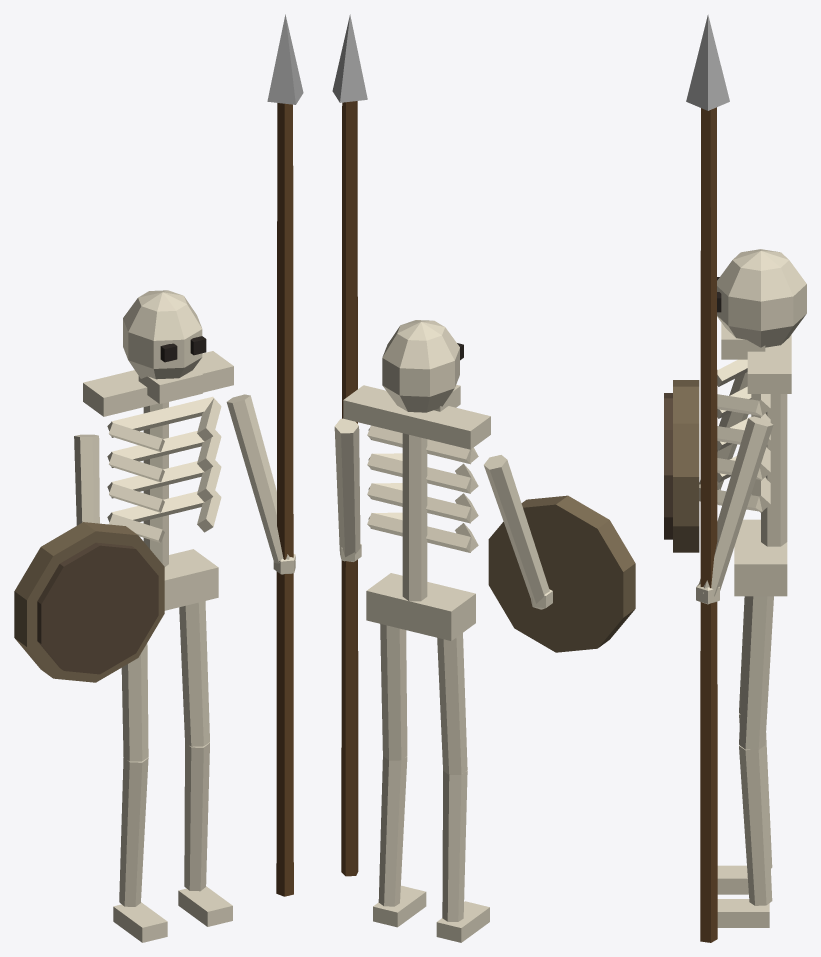
Rendered from skelett.glb.
3 renders of one model, left to right at view 1: azimuth 30°, elevation 25°; view 2: azimuth 150°, elevation 25°; view 3: azimuth 270°, elevation 25°, orthographic. The views are drawn at different scales.
Size of the model in its own units: 0.8102 by 2.36 by 0.3246.
1 material, 1 textured.
